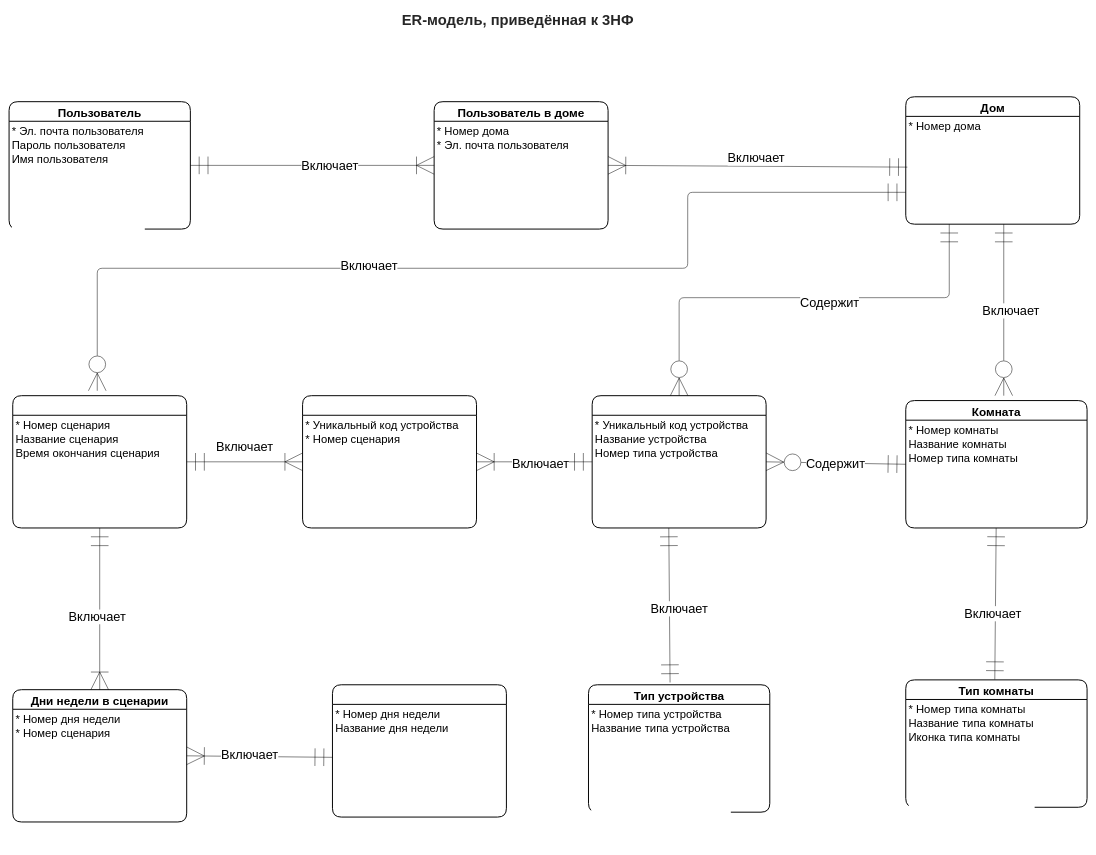
Some shapes in this 1096 by 855 pixel diagram are drawn without their labels. The shapes that lost their labels are listed below. From the top down, each one's box as (x1, y1, x2, y2) in pixels, then its label:
(12, 395, 187, 528): Сценарий
(302, 395, 477, 528): Устройство в сценарии
(591, 395, 766, 528): Устройство
(332, 684, 507, 817): Дни недели
